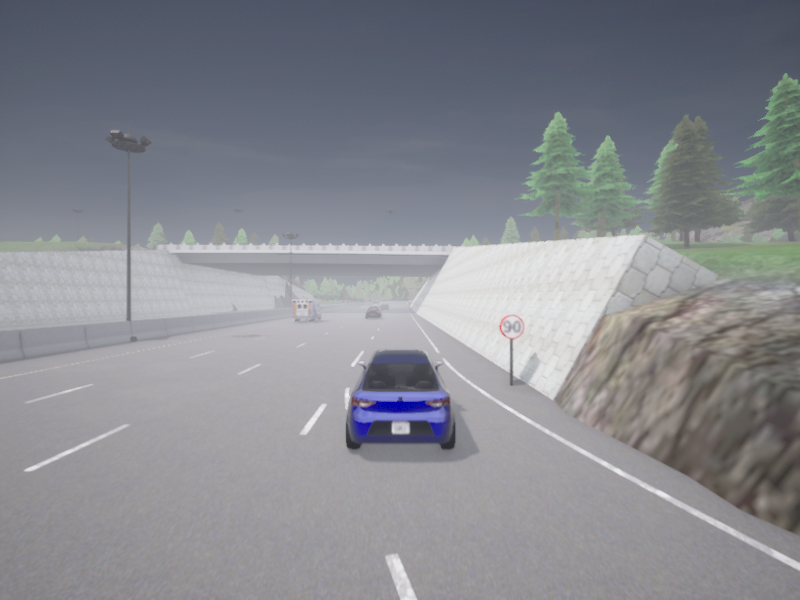vehicle: (345, 348, 455, 449), (291, 300, 322, 321), (366, 306, 381, 317), (372, 301, 379, 307), (381, 304, 389, 309)
